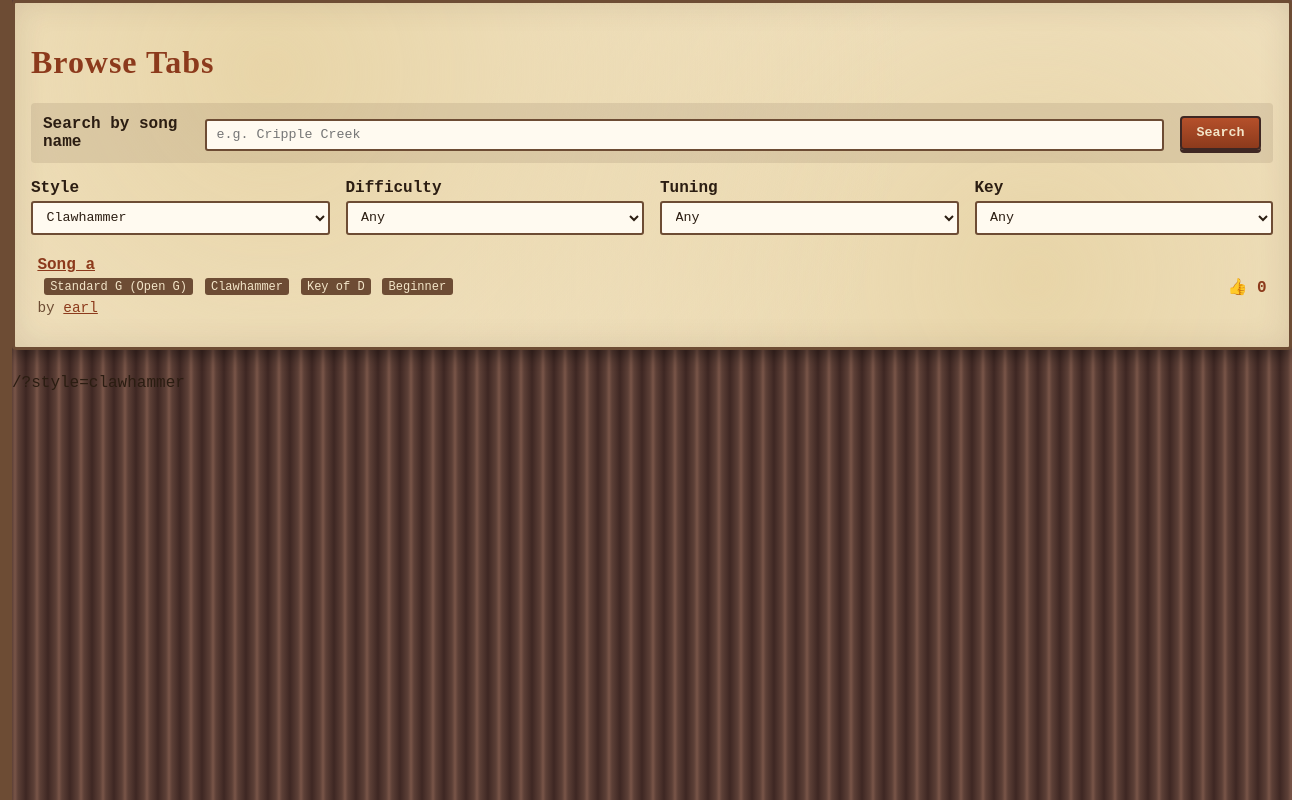
Test: HomePage filters › searches with the chosen filters, keeps them in the URL, and shows tags
Check: the text "Key of D" is shown, box x1=301 y1=278 x2=371 y2=296
Check: the text "Beginner" is shown, box x1=382 y1=278 x2=453 y2=296
Select "Beginner" in the dropdown labelled "Difficulty" at (495, 218), box x1=346 y1=201 x2=644 y2=235
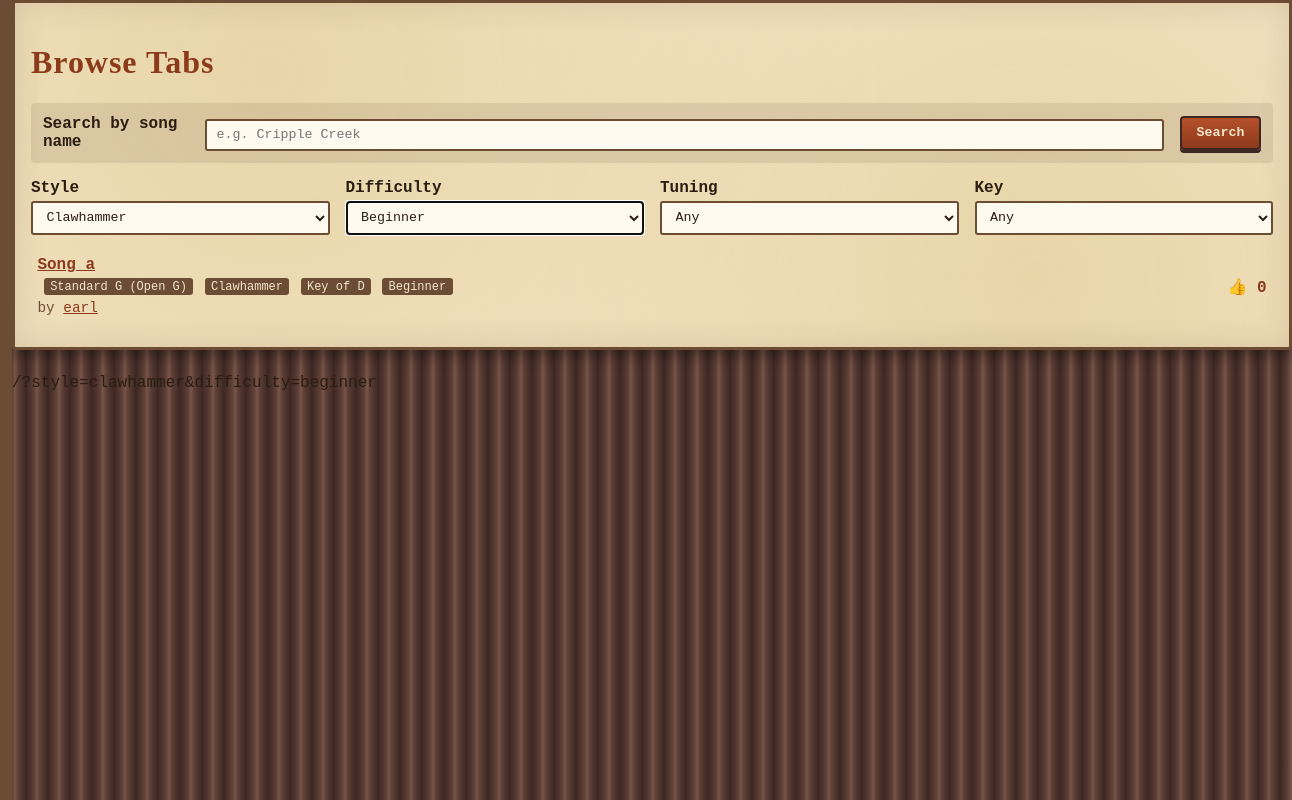
Check: the text with test id "location" shows "difficulty=beginner", box x1=12 y1=374 x2=377 y2=392
